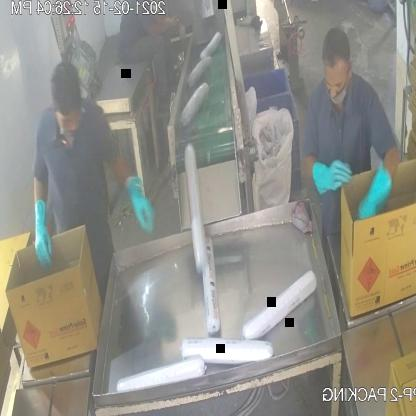glove: (306, 148, 358, 209), (123, 164, 161, 237), (31, 195, 60, 271)
no_glove: (144, 11, 185, 47)
